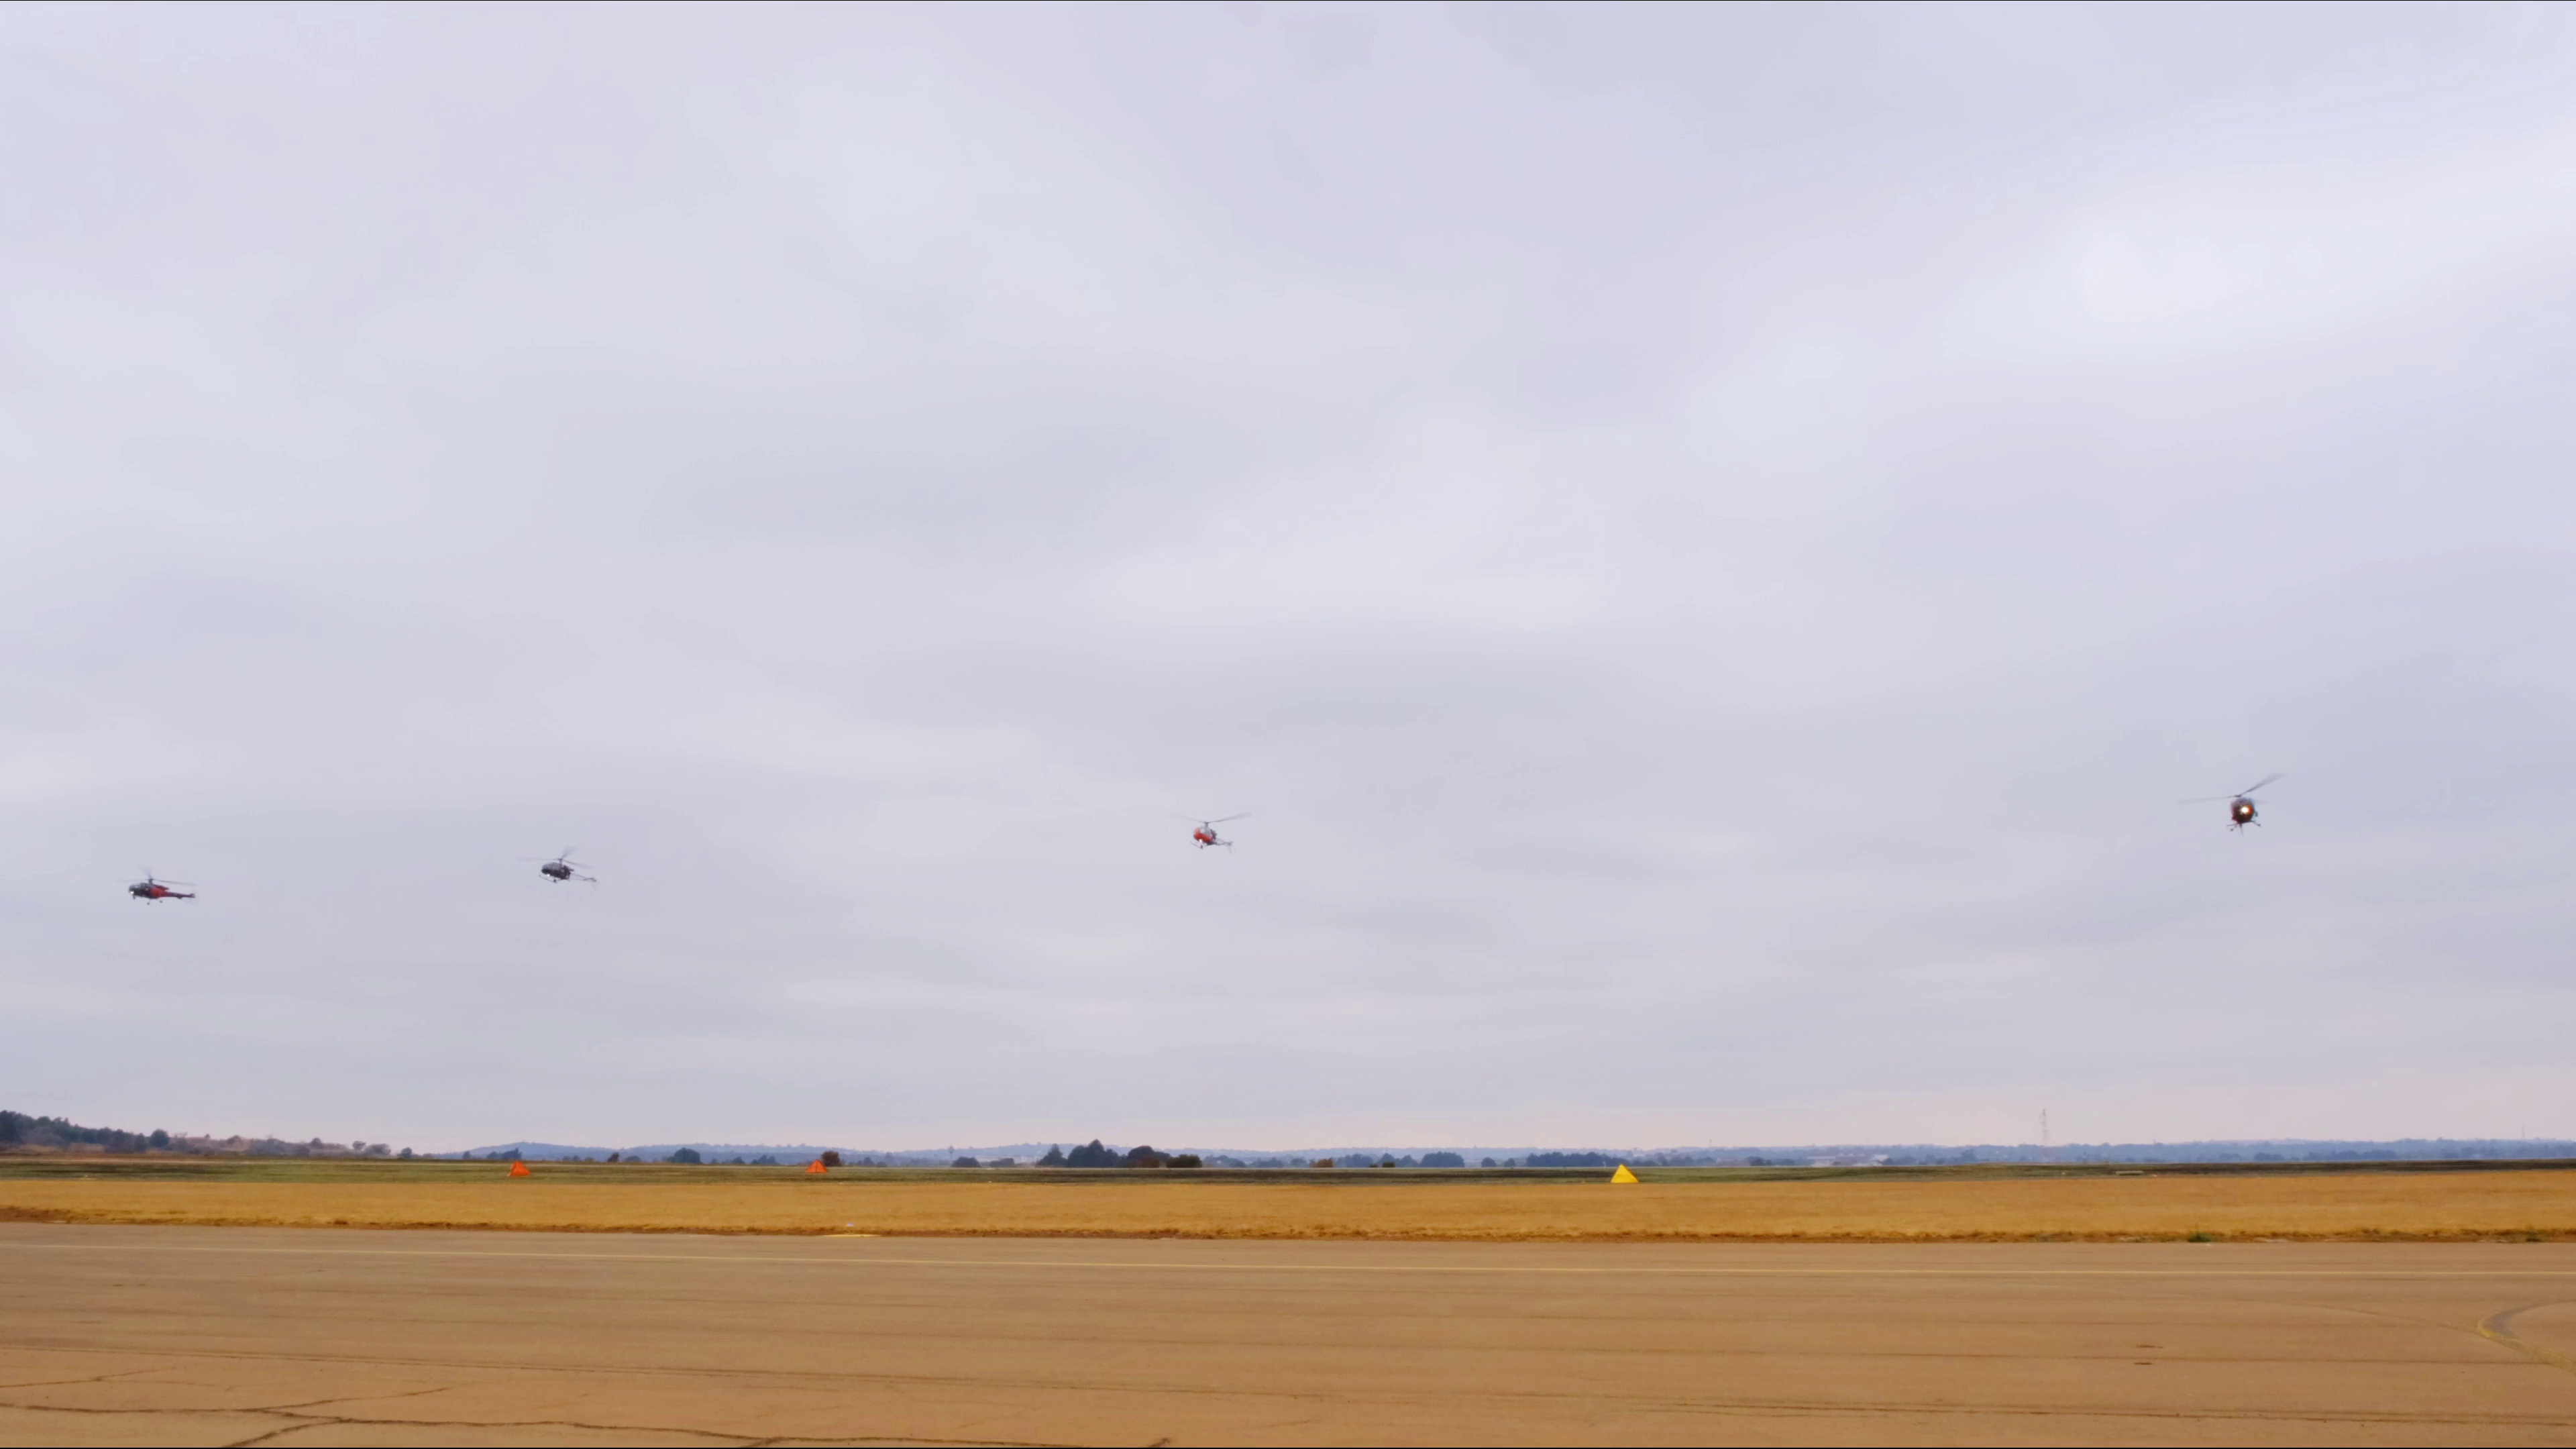heli: (2199, 775, 2277, 832), (129, 865, 202, 906), (1180, 812, 1253, 849), (541, 844, 602, 886)
